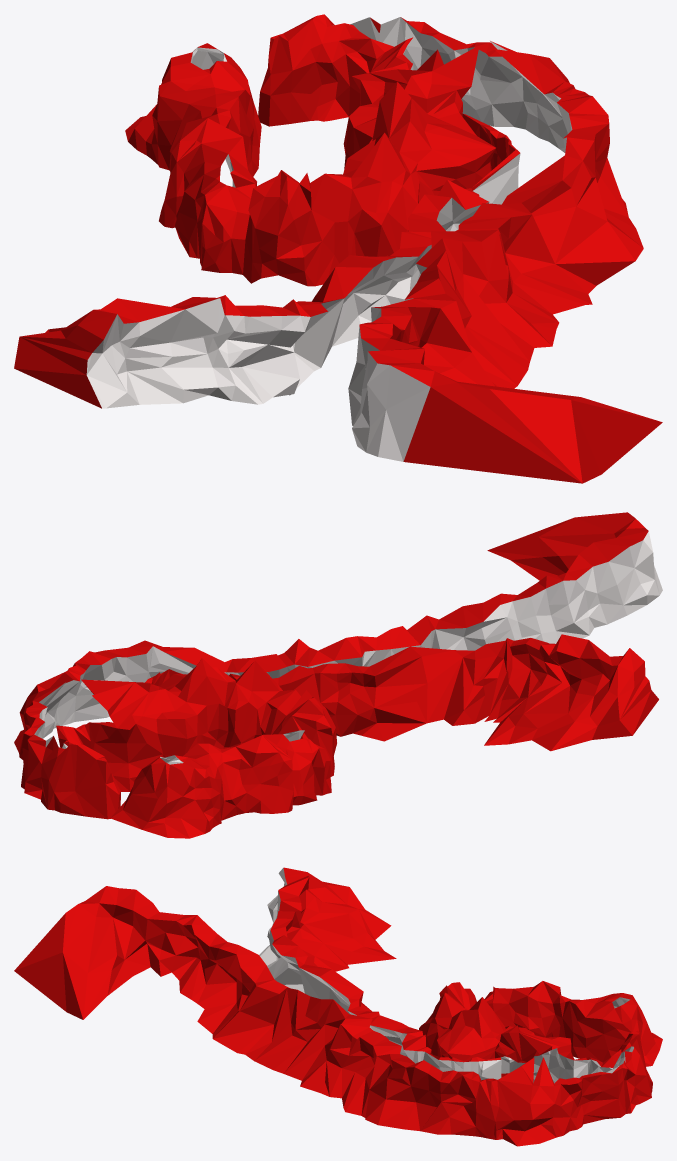
Rendered from Cave_FirstStage.FBX.
3 views of the same model, one above another, from view 1: azimuth 30°, elevation 25°; view 2: azimuth 150°, elevation 25°; view 3: azimuth 270°, elevation 25° (orthographic). The views are drawn at different scales.
Parts seen in each view (by area): view 1: 对象002; view 2: 对象002; view 3: 对象002.
Boxes of the visible parts, box(x1,y1,x2,y2) form: 对象002: box(14, 14, 662, 483); 对象002: box(14, 512, 662, 838); 对象002: box(14, 867, 662, 1146).
Size of the model in its own units: 176 by 43.06 by 228.
